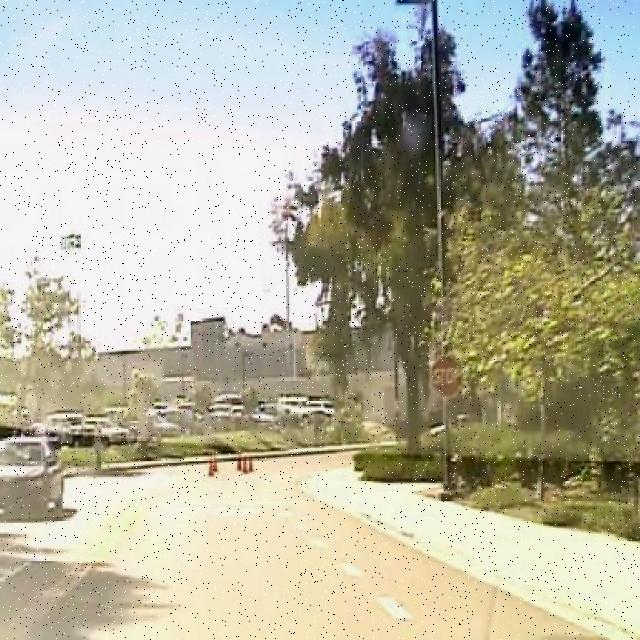Stop: (430, 354, 464, 398)
